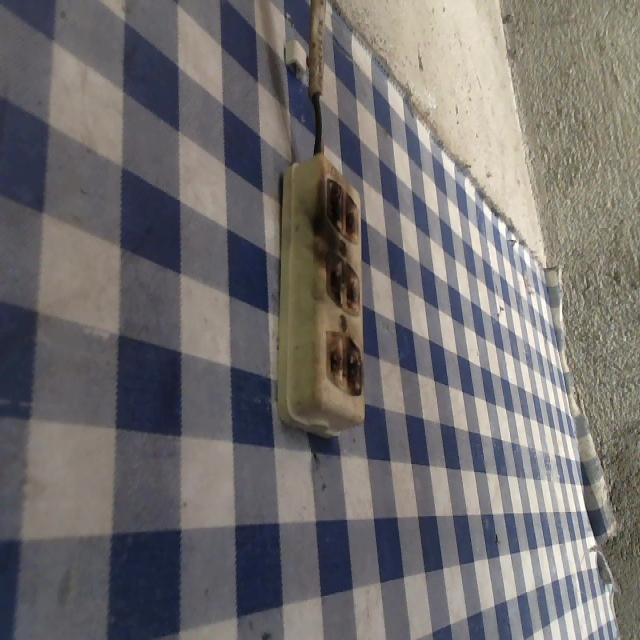-: (322, 327, 364, 397), (323, 247, 363, 316), (324, 174, 361, 242)
